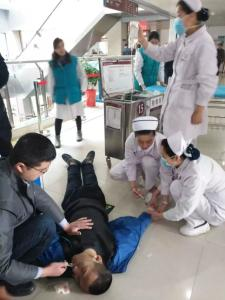fall: (56, 150, 120, 295)
